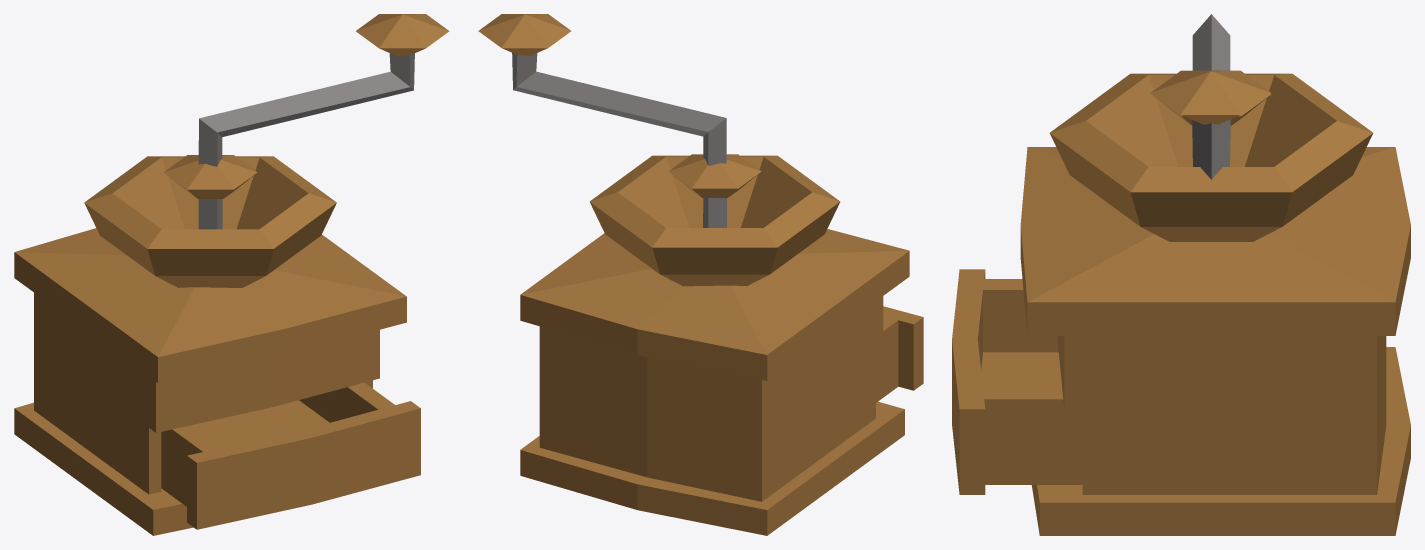
The model's file is survival-quern.glb.
3 renders of one model, left to right at view 1: azimuth 30°, elevation 25°; view 2: azimuth 150°, elevation 25°; view 3: azimuth 270°, elevation 25°, orthographic. The views are drawn at different scales.
Visible parts, largest first — view 1: quern; view 2: quern; view 3: quern.
Part boxes in pixels (bbox=[...]): quern: bbox=[14, 14, 449, 535]; quern: bbox=[478, 14, 923, 535]; quern: bbox=[952, 14, 1410, 535].
Size of the model in its own units: 0.2712 by 0.2917 by 0.2394.
